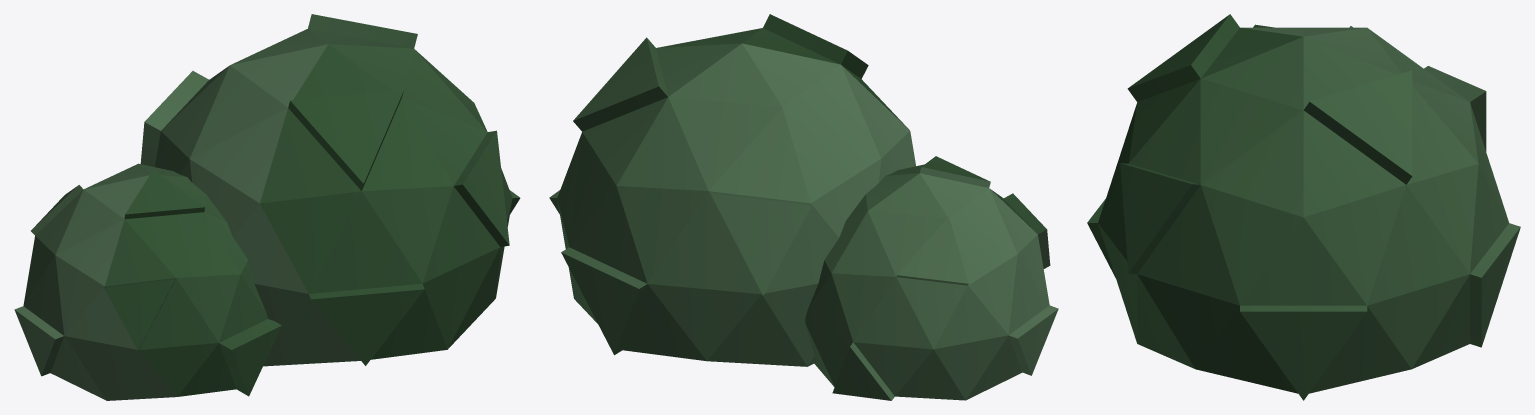
Rendered from arbusto duplo.fbx.
3 views of the same model, side by side, from view 1: azimuth 30°, elevation 25°; view 2: azimuth 150°, elevation 25°; view 3: azimuth 270°, elevation 25° (orthographic). The views are drawn at different scales.
Visible parts, largest first — view 1: Icosphere.002; view 2: Icosphere.002; view 3: Icosphere.002.
Boxes of the visible parts, x1=… form: Icosphere.002: x1=14, y1=14, x2=520, y2=400; Icosphere.002: x1=549, y1=14, x2=1058, y2=400; Icosphere.002: x1=1087, y1=14, x2=1520, y2=400.
Bounding box in the file's own units: 280 × 160 × 211.
1 material, 1 textured.
